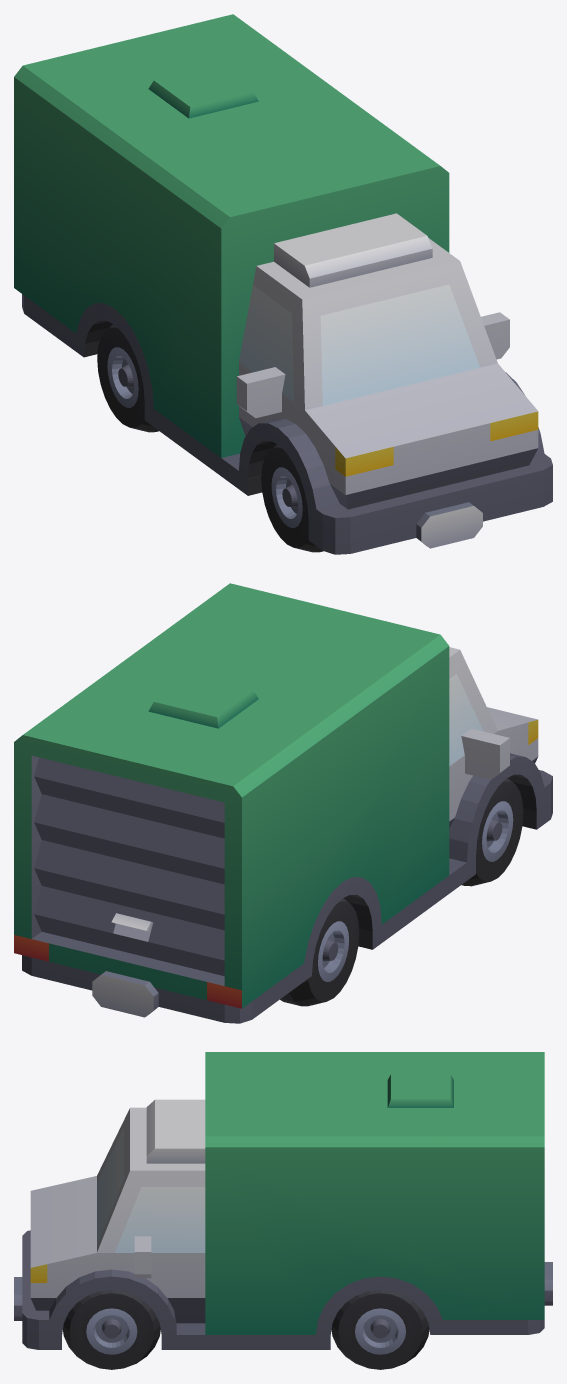
File: delivery-high.glb
3 renders of one model, top to bottom at view 1: azimuth 30°, elevation 25°; view 2: azimuth 150°, elevation 25°; view 3: azimuth 270°, elevation 25°, orthographic. The views are drawn at different scales.
Visible parts, largest first — view 1: body, wheel-front-right, wheel-back-right; view 2: body, door, wheel-back-right, wheel-front-right; view 3: body, wheel-back-left, wheel-front-left.
Part boxes in pixels (x1,y1,x2,y2): body: (14, 14, 552, 554); wheel-front-right: (261, 444, 323, 552); wheel-back-right: (97, 324, 158, 432); body: (14, 583, 552, 1023); door: (34, 757, 224, 976); wheel-back-right: (280, 898, 359, 1006); wheel-front-right: (461, 778, 523, 886); body: (14, 1052, 552, 1349); wheel-back-left: (331, 1290, 429, 1369); wheel-front-left: (63, 1290, 160, 1369).
Bounding box in the file's own units: 1.5 × 1.65 × 3.25.
